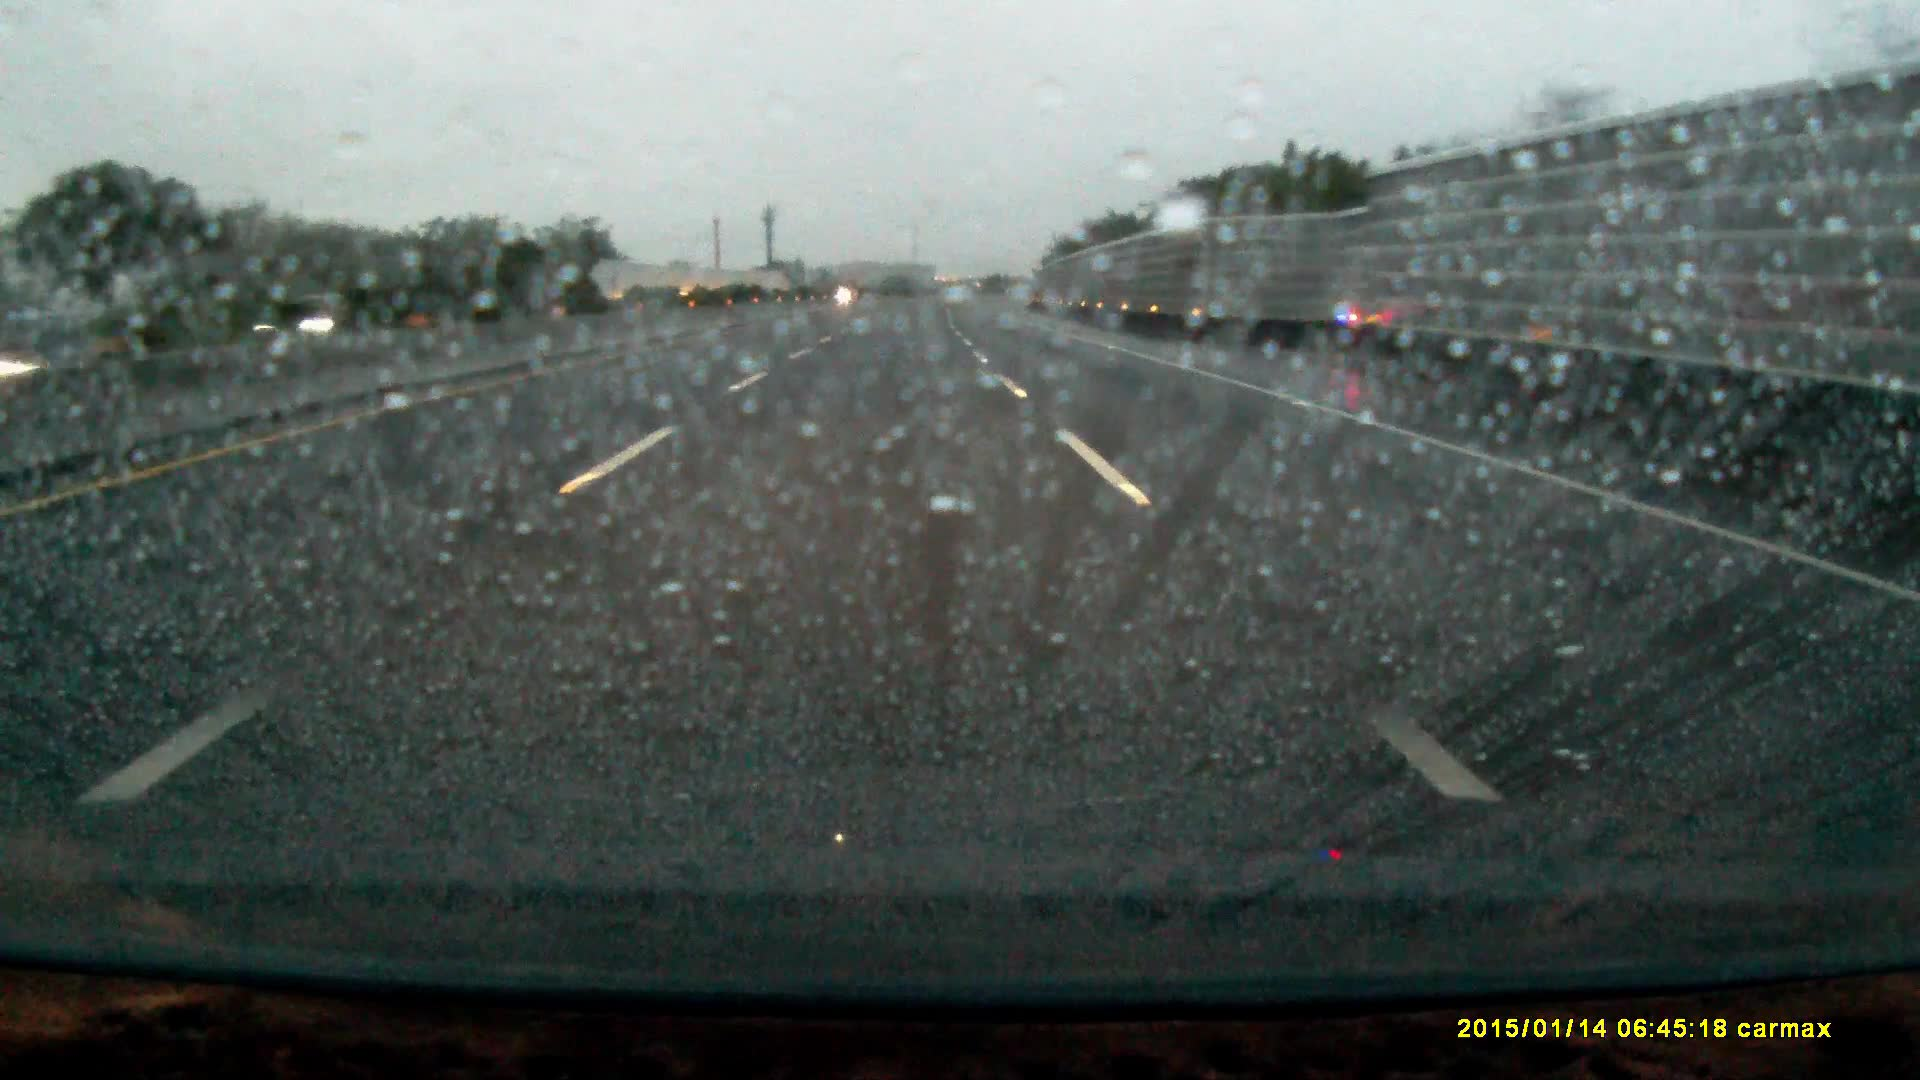vehicle: (229, 299, 342, 348)
